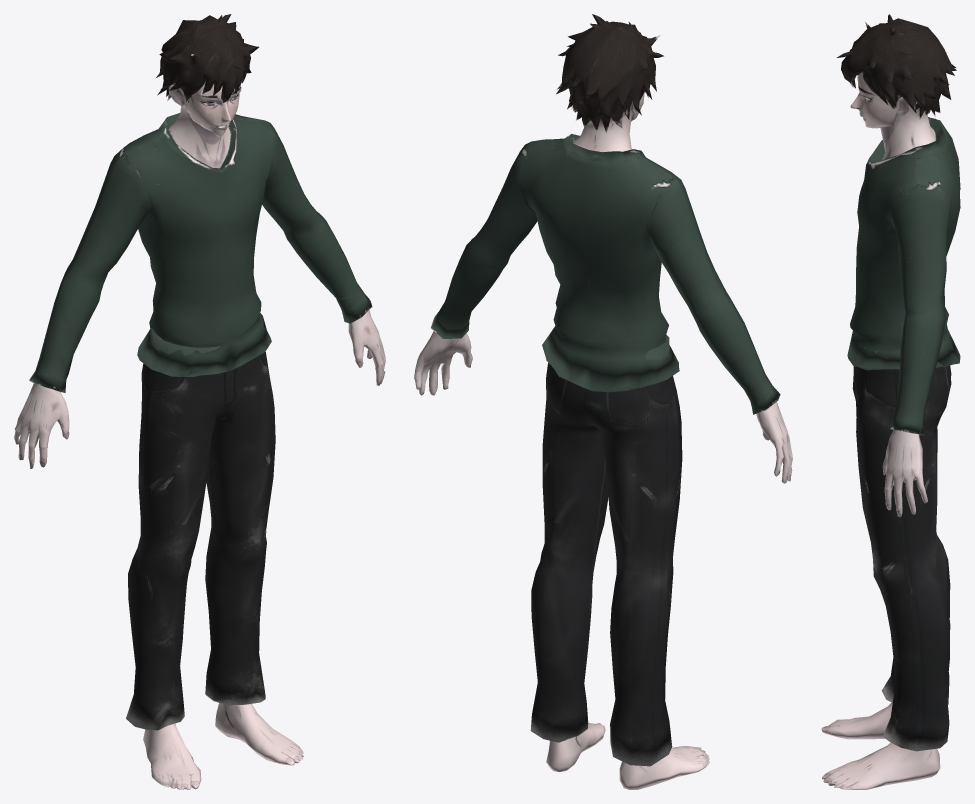
The model's file is Meshy_AI_Haunted_Drifter_0915204054_texture.obj.
3 renders of one model, left to right at view 1: azimuth 30°, elevation 25°; view 2: azimuth 150°, elevation 25°; view 3: azimuth 270°, elevation 25°, orthographic.
Visible parts, largest first — view 1: Meshy_AI_Haunted_Drifter_0915204054_texture; view 2: Meshy_AI_Haunted_Drifter_0915204054_texture; view 3: Meshy_AI_Haunted_Drifter_0915204054_texture.
Part boxes in pixels (x1,y1,x2,y2): Meshy_AI_Haunted_Drifter_0915204054_texture: (14,14,385,789); Meshy_AI_Haunted_Drifter_0915204054_texture: (414,14,792,789); Meshy_AI_Haunted_Drifter_0915204054_texture: (821,14,960,789).
Size of the model in its own units: 0.5215 by 1 by 0.1714.
